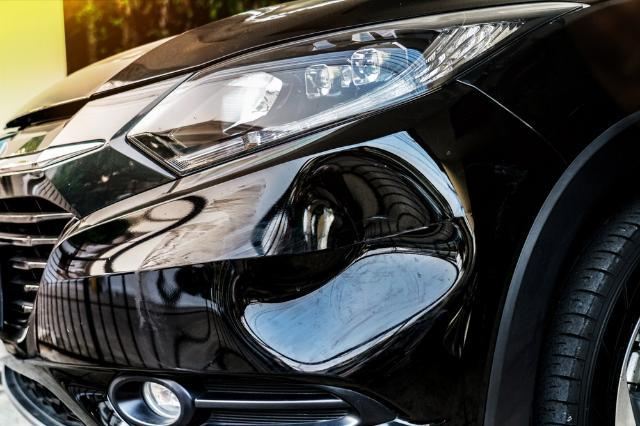dent: (228, 146, 467, 368)
scratch: (132, 177, 269, 338)
